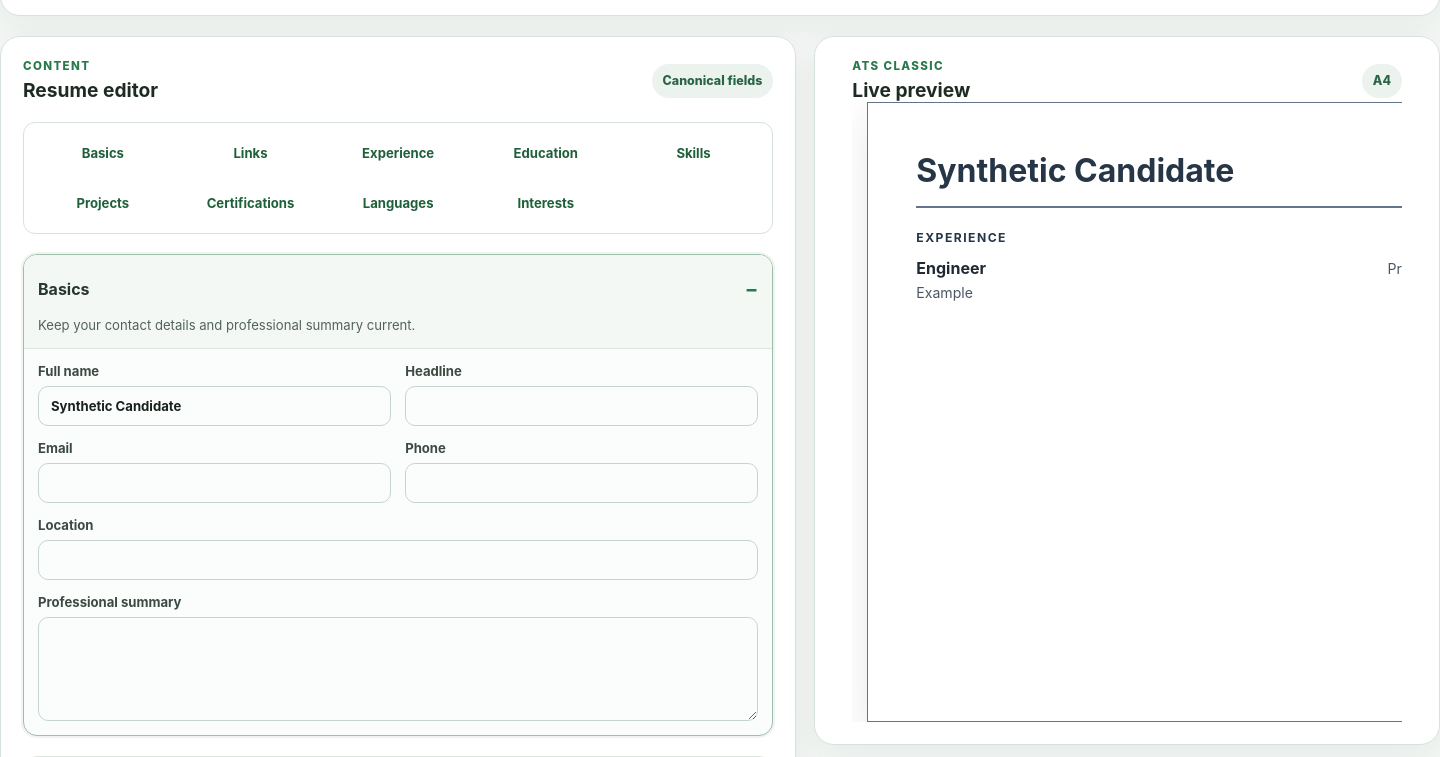
Test case: ResumeWorkspace › preserves the draft after a server validation save failure
(page scrolled)
Replace the text in the field labelled "Full name" with "Preserved Draft Candidate" at (215, 406), box [38,386,391,426]
(page scrolled)
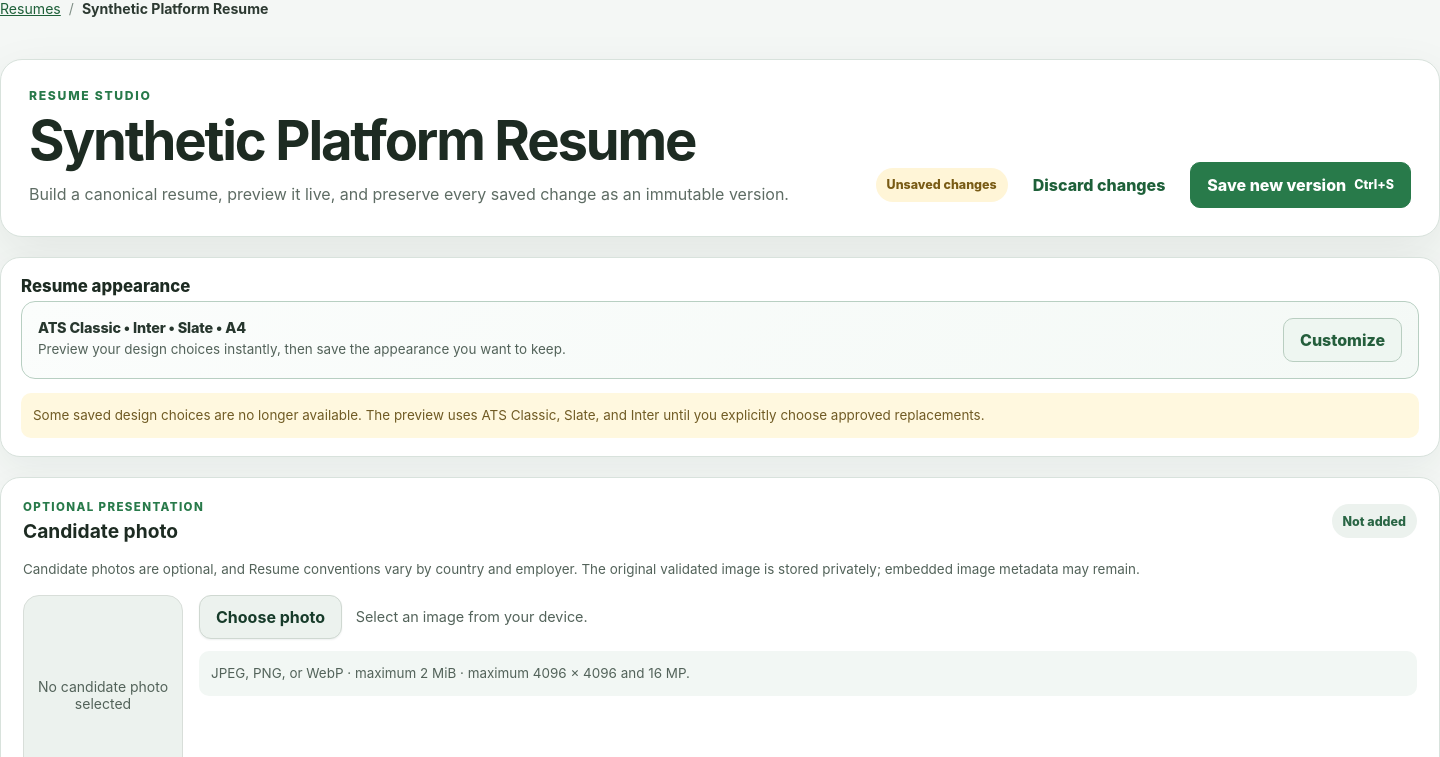
Click the button "Save new version Ctrl+S".
click(1301, 185)  # box [1190,162,1411,208]
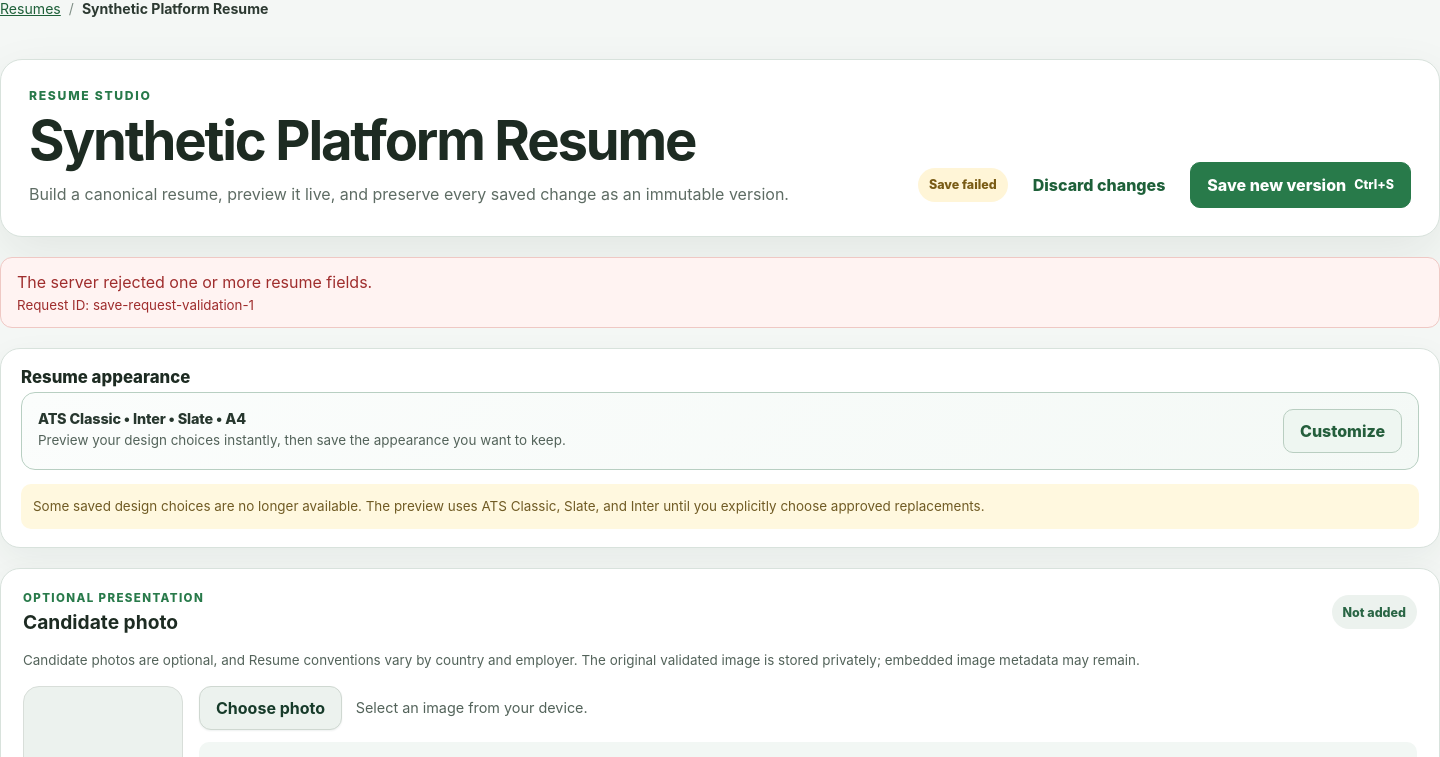
Expected: the text "The server rejected one or more resume fields." is shown, [17,272,372,292]
Expected: the text "Save failed" is shown, [918,168,1008,202]
